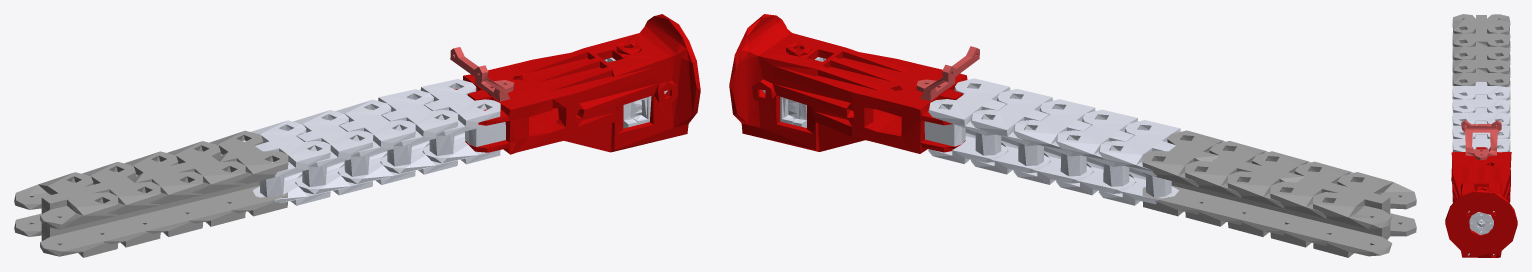
Rendered from amoeba_arm_in.dae.
3 views of the same model, side by side, from view 1: azimuth 30°, elevation 25°; view 2: azimuth 150°, elevation 25°; view 3: azimuth 270°, elevation 25° (orthographic). The views are drawn at different scales.
Visible parts, largest first — view 1: Shape_IndexedFaceSet; view 2: Shape_IndexedFaceSet; view 3: Shape_IndexedFaceSet.
Part boxes in pixels (x1,y1,x2,y2): Shape_IndexedFaceSet: [14, 14, 700, 257]; Shape_IndexedFaceSet: [729, 14, 1416, 257]; Shape_IndexedFaceSet: [1445, 14, 1517, 257].
Bounding box in the file's own units: 0.3029 × 0.0464 × 0.0528.
